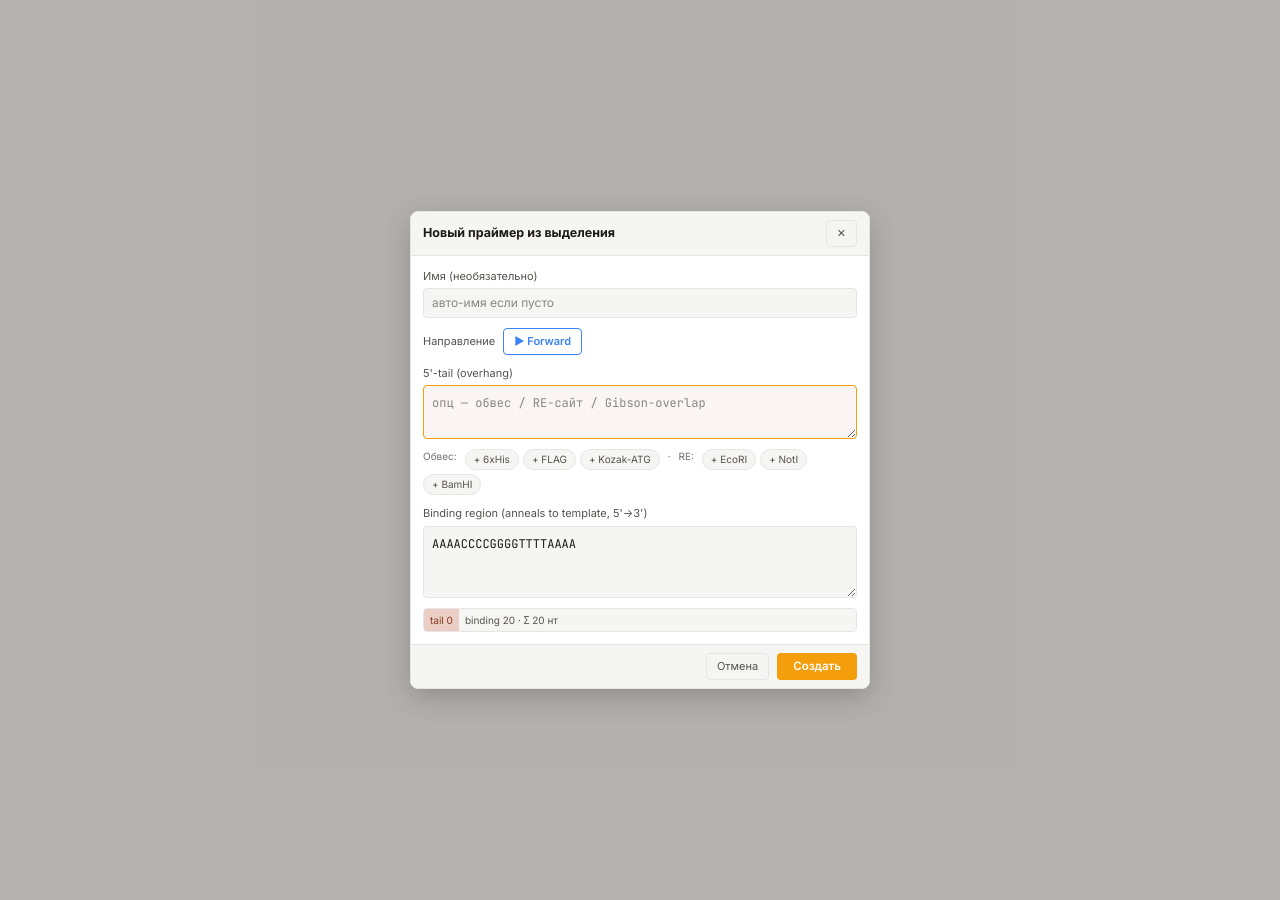
Scenario: K13 — tail field + helpers › snippet helper «+ 6xHis» appends the snippet sequence to tail
Click the button with test id "primer-modal-helper-snippet-6xHis": (492, 460) [465,449,519,470]
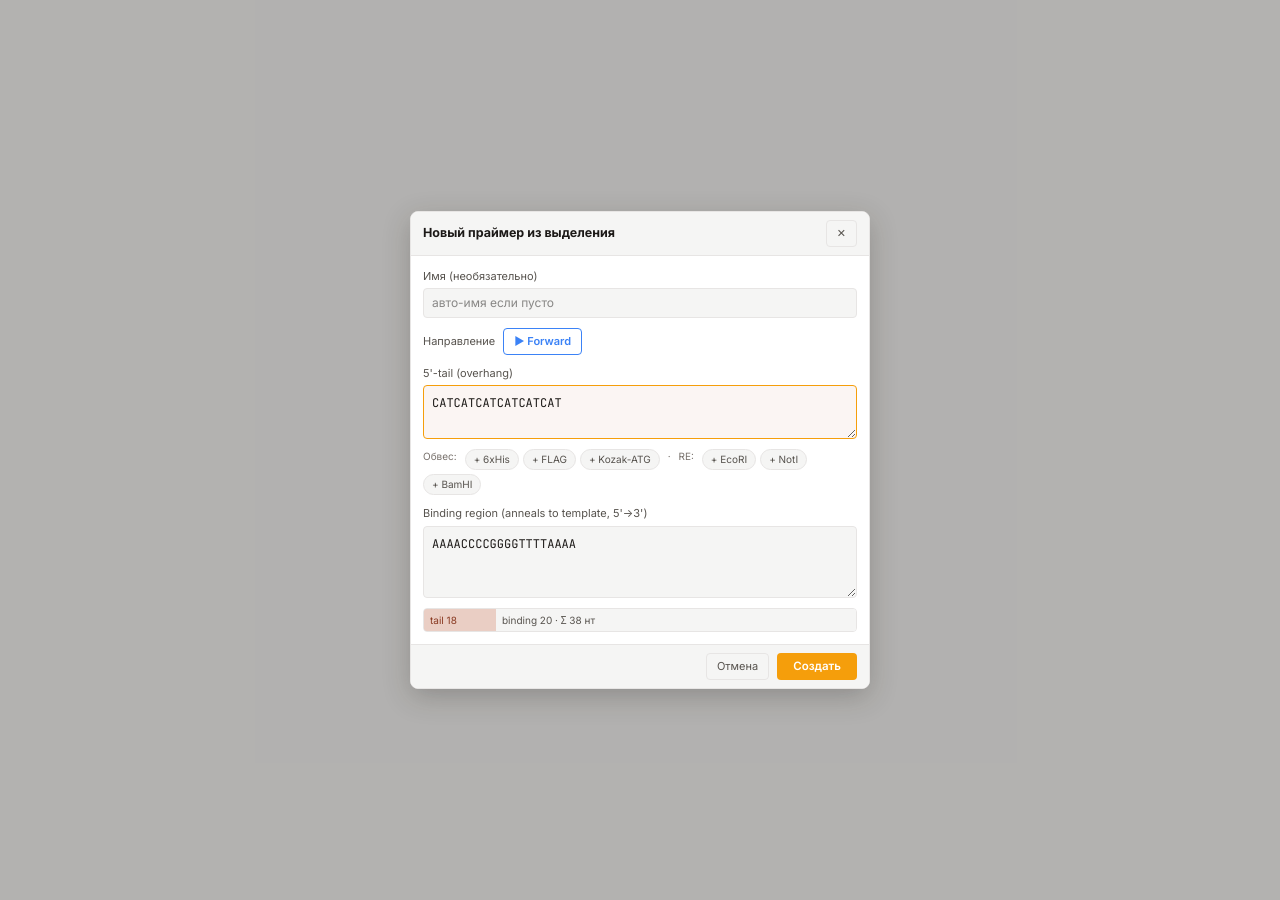
Check: the text box with test id "primer-modal-tail" holds "CATCATCATCATCATCAT", box [423,385,857,439]
